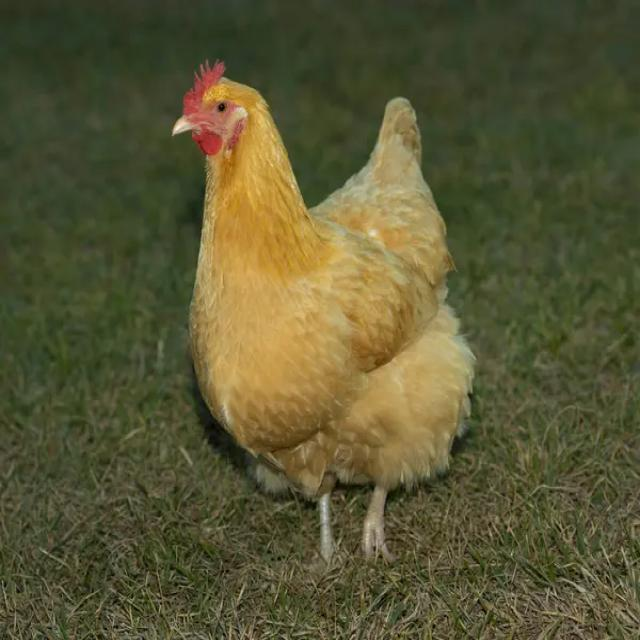Chicken: (145, 59, 550, 558)
